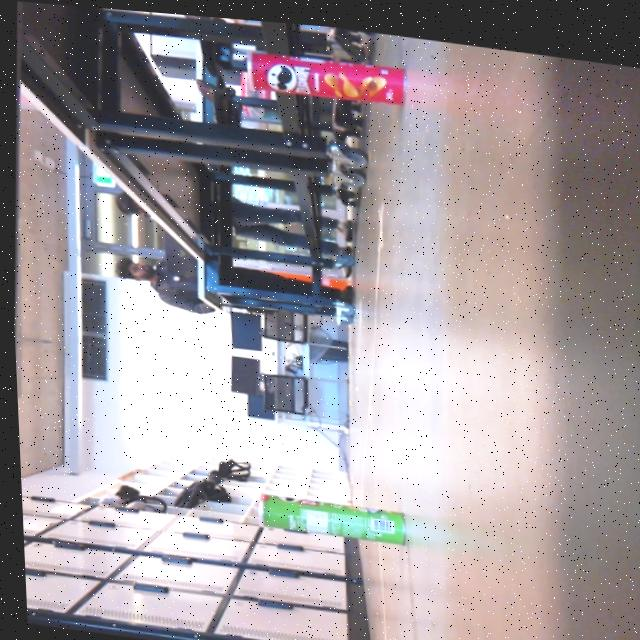greenpringles: (243, 478, 412, 551)
redpringles: (236, 29, 418, 113)
